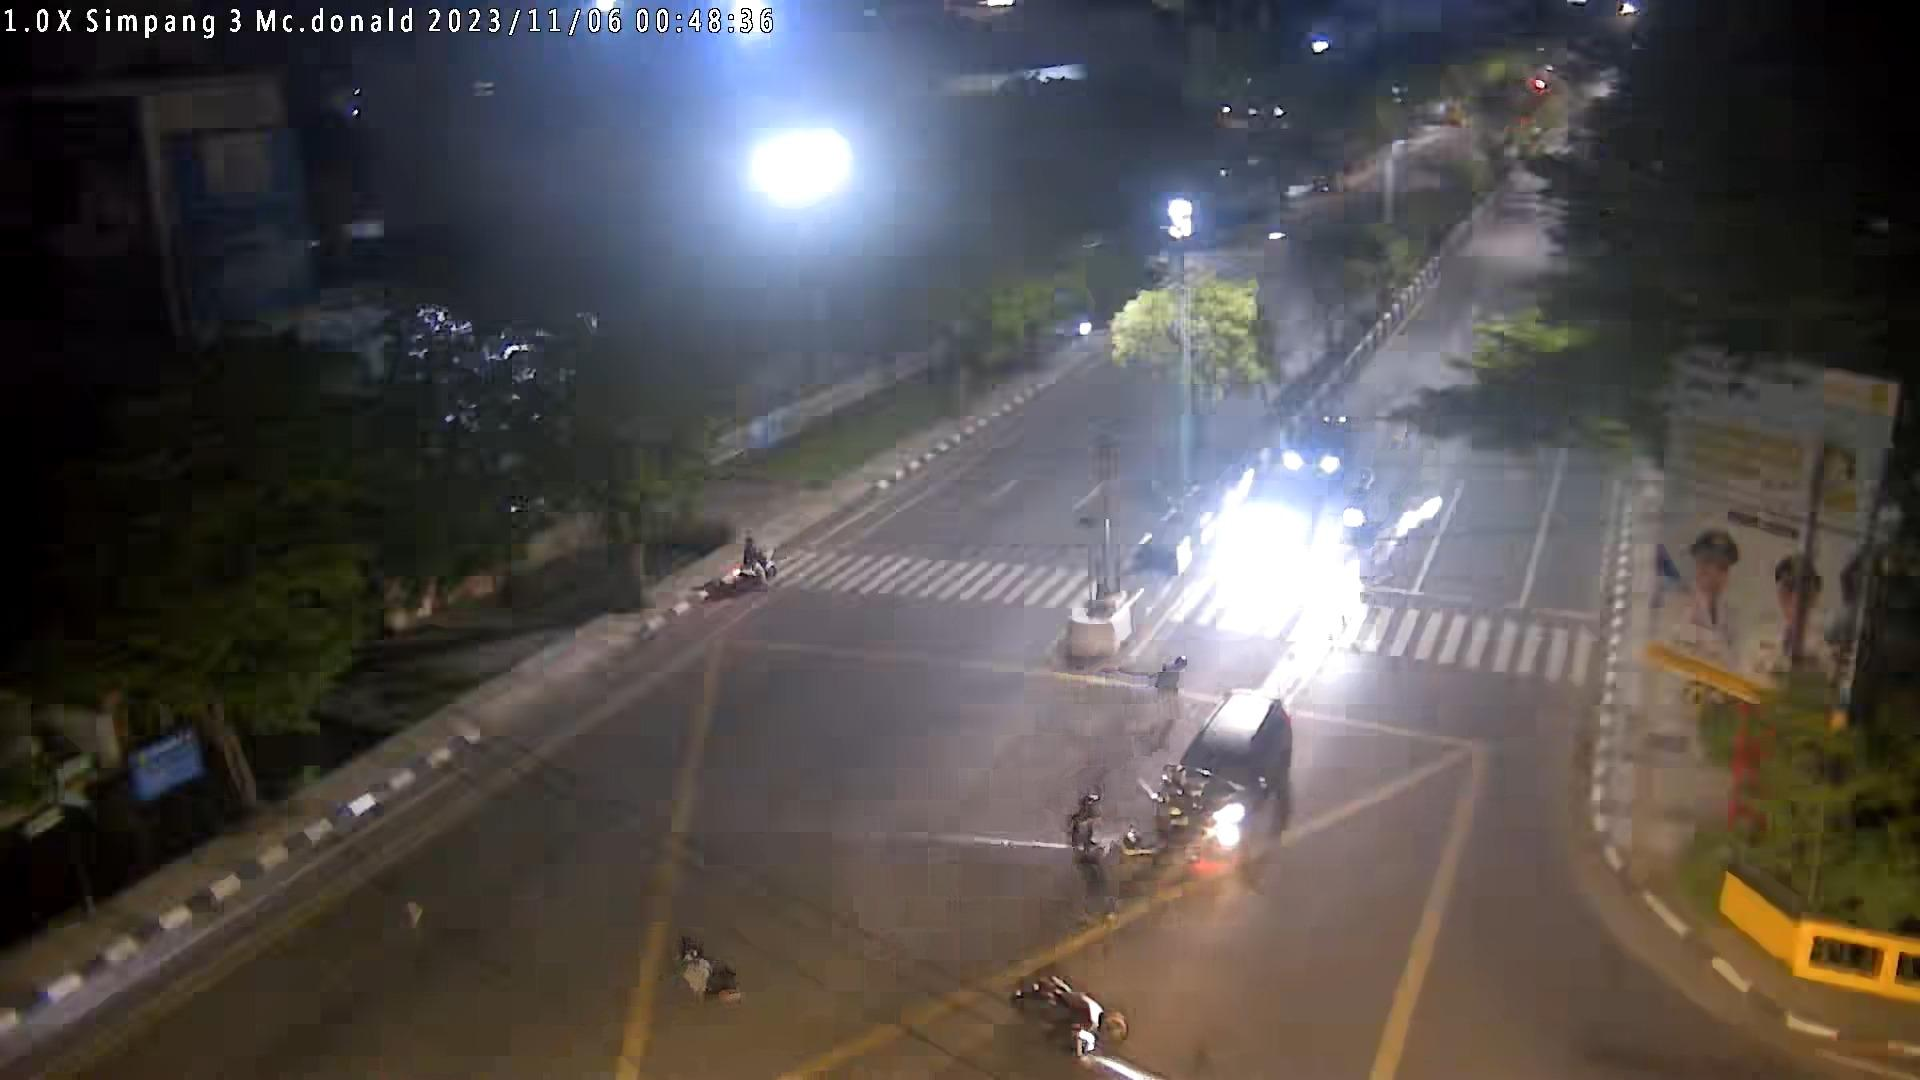accident: (675, 936, 744, 1005)
